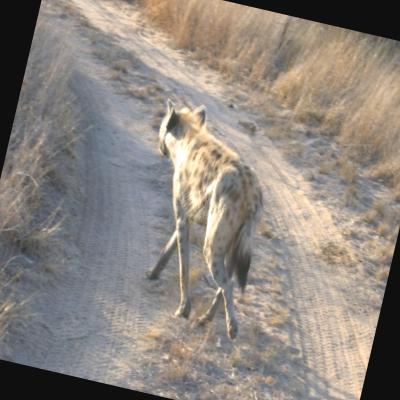hyenas: (103, 79, 299, 362)
